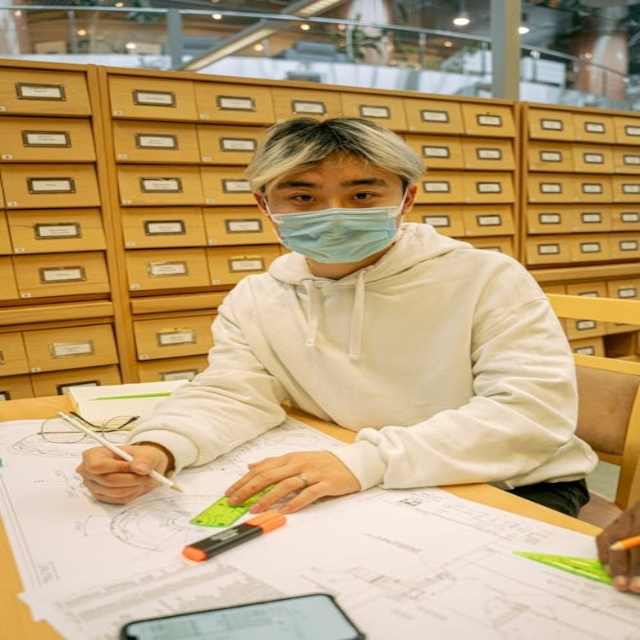Mascara: (266, 193, 405, 262)
Sin_gafas: (271, 174, 389, 205)
Sin_guantes: (224, 449, 357, 514), (76, 442, 169, 503), (595, 494, 639, 597)
